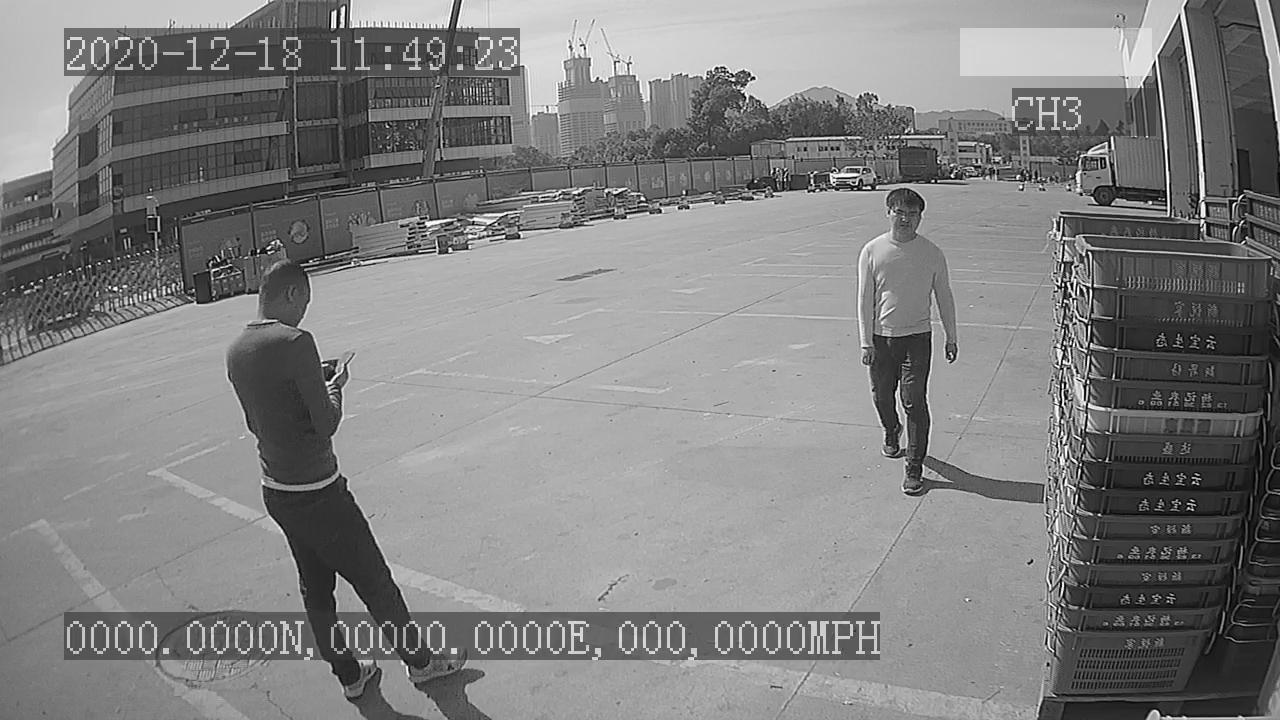person: (852, 186, 961, 501)
